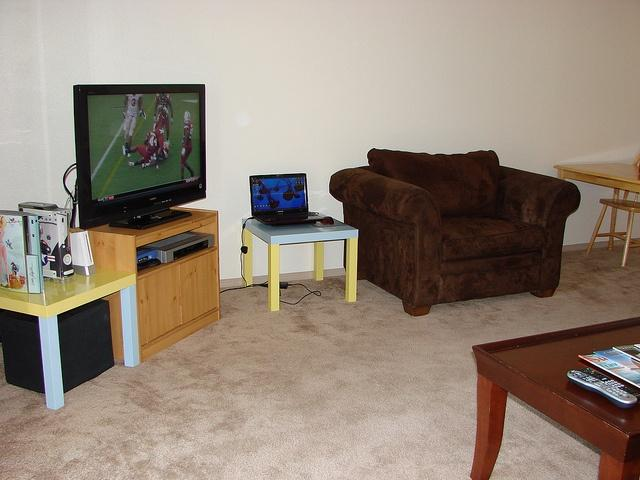AIO PC-Monitor-TV: (71, 82, 206, 228)
Meja: (469, 314, 639, 479), (552, 160, 639, 198)
